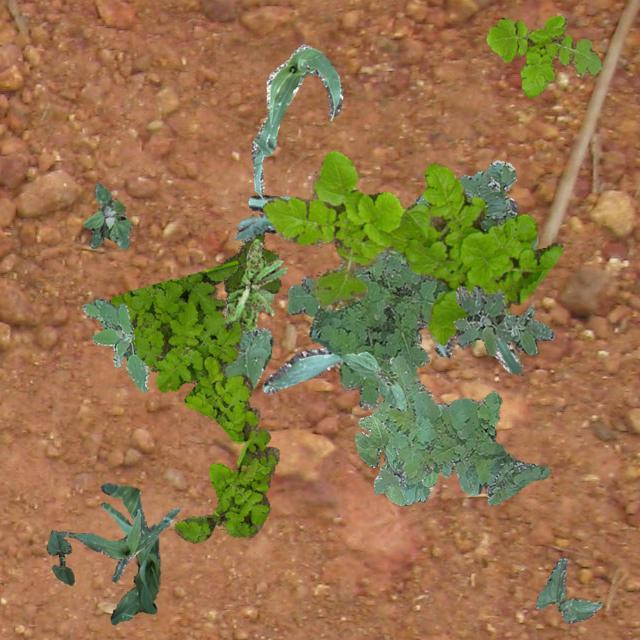crop: (233, 194, 520, 394), (250, 44, 342, 195), (55, 506, 178, 582), (100, 482, 160, 624), (354, 408, 438, 504), (220, 287, 274, 388), (534, 556, 602, 622), (342, 350, 404, 410), (46, 528, 74, 584)
weed: (286, 160, 536, 408), (262, 150, 562, 346), (109, 260, 278, 542), (373, 354, 550, 504), (486, 15, 600, 96), (452, 284, 554, 354), (80, 298, 148, 392), (224, 238, 286, 330), (222, 232, 280, 292), (82, 182, 132, 248), (414, 330, 420, 344)
